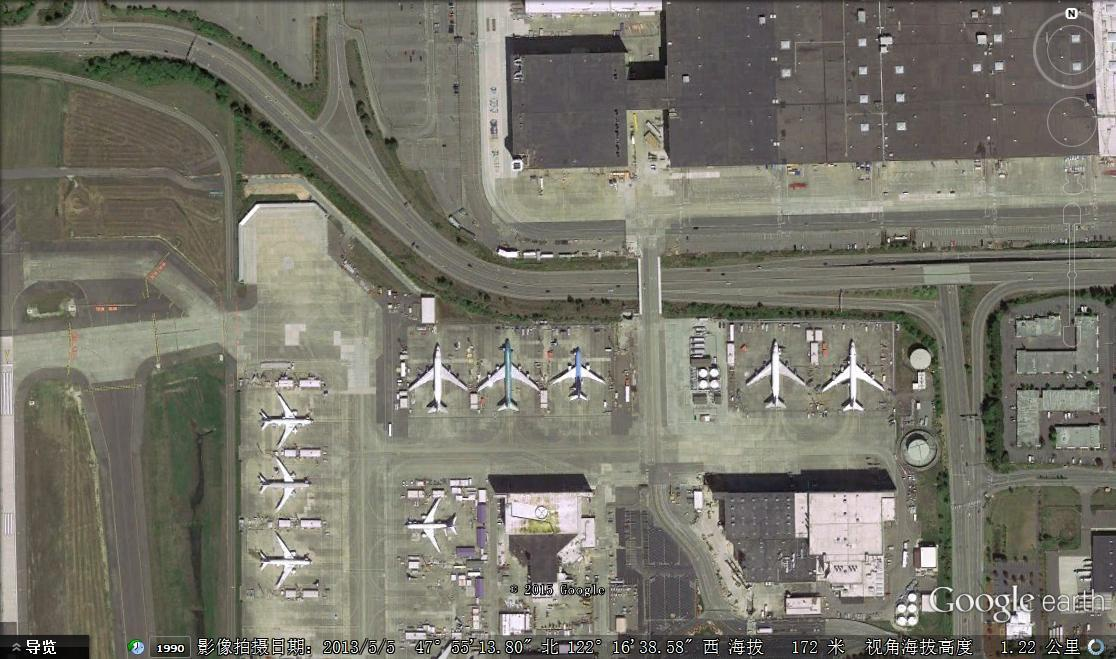aircraft: (403, 340, 473, 421), (477, 337, 545, 419), (744, 337, 812, 414), (821, 338, 885, 417), (549, 336, 614, 405), (253, 528, 314, 593), (255, 388, 316, 451), (256, 456, 314, 517)
